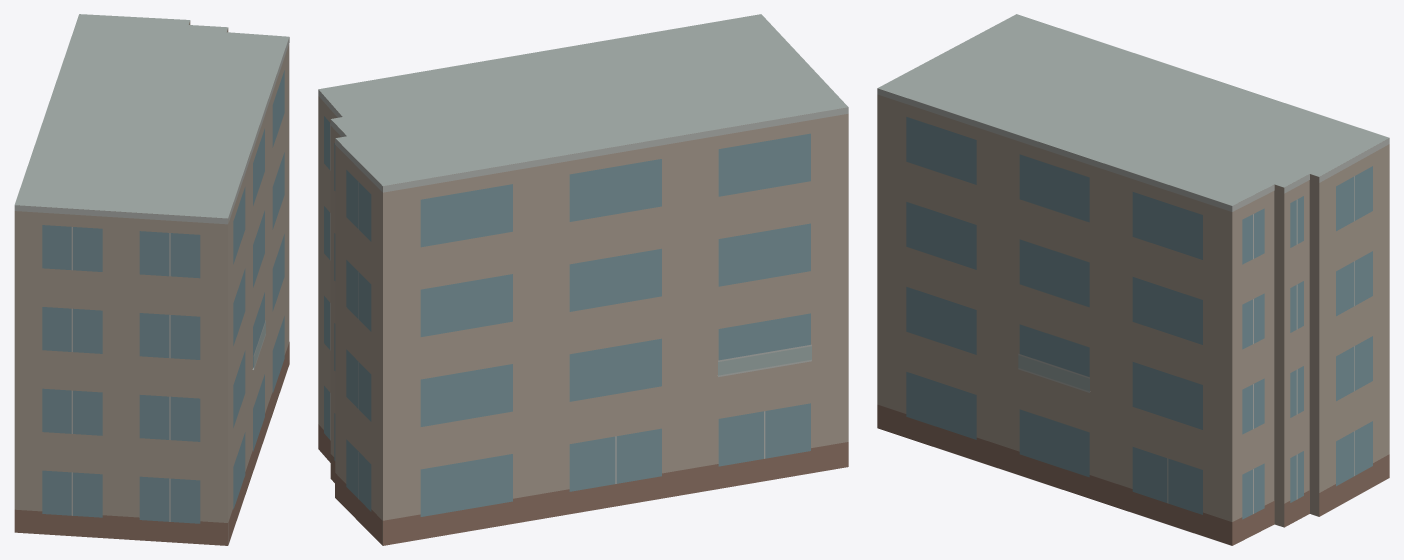
The model's file is survey-upis-32939439.glb.
The picture shows the model from 3 angles, left to right: view 1: azimuth 30°, elevation 25°; view 2: azimuth 150°, elevation 25°; view 3: azimuth 270°, elevation 25°; orthographic projection. The views are drawn at different scales.
Parts seen in each view (by area): view 1: survey-upis-32939439.tmp; view 2: survey-upis-32939439.tmp; view 3: survey-upis-32939439.tmp.
Part boxes in pixels (x1,y1,x2,y2): survey-upis-32939439.tmp: (14, 14, 289, 545); survey-upis-32939439.tmp: (318, 14, 848, 545); survey-upis-32939439.tmp: (877, 14, 1389, 545).
Size of the model in its own units: 16.42 by 13.55 by 18.52.
